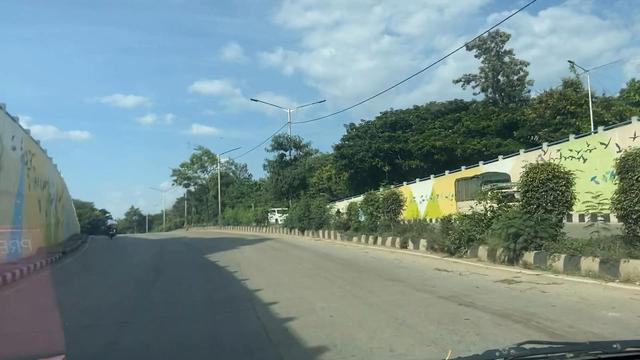LMV: (105, 215, 117, 238)
